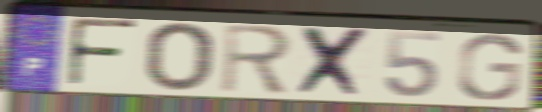5: (382, 29, 444, 99)
F: (64, 15, 141, 91)
G: (454, 32, 525, 103)
O: (143, 20, 217, 93)
R: (218, 21, 295, 95)
X: (293, 24, 376, 100)
